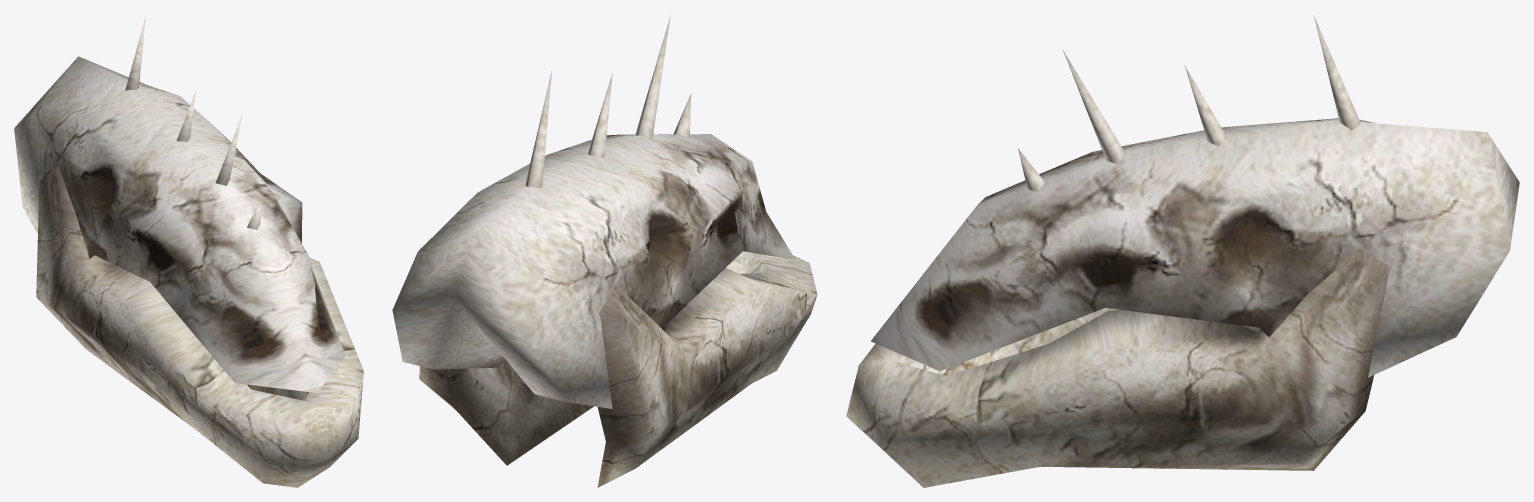
The model's file is thm_dant_lizard_skull_l1.fbx.
The picture shows the model from 3 angles, left to right: view 1: azimuth 30°, elevation 25°; view 2: azimuth 150°, elevation 25°; view 3: azimuth 270°, elevation 25°; orthographic projection. The views are drawn at different scales.
Visible parts, largest first — view 1: mesh_node; view 2: mesh_node; view 3: mesh_node.
Part boxes in pixels (x1,y1,x2,y2): mesh_node: (14, 15, 363, 487); mesh_node: (392, 15, 817, 487); mesh_node: (846, 15, 1519, 487).
Bounding box in the file's own units: 0.2565 × 0.4616 × 0.6013.
Materials: 1 (1 with a texture image).
